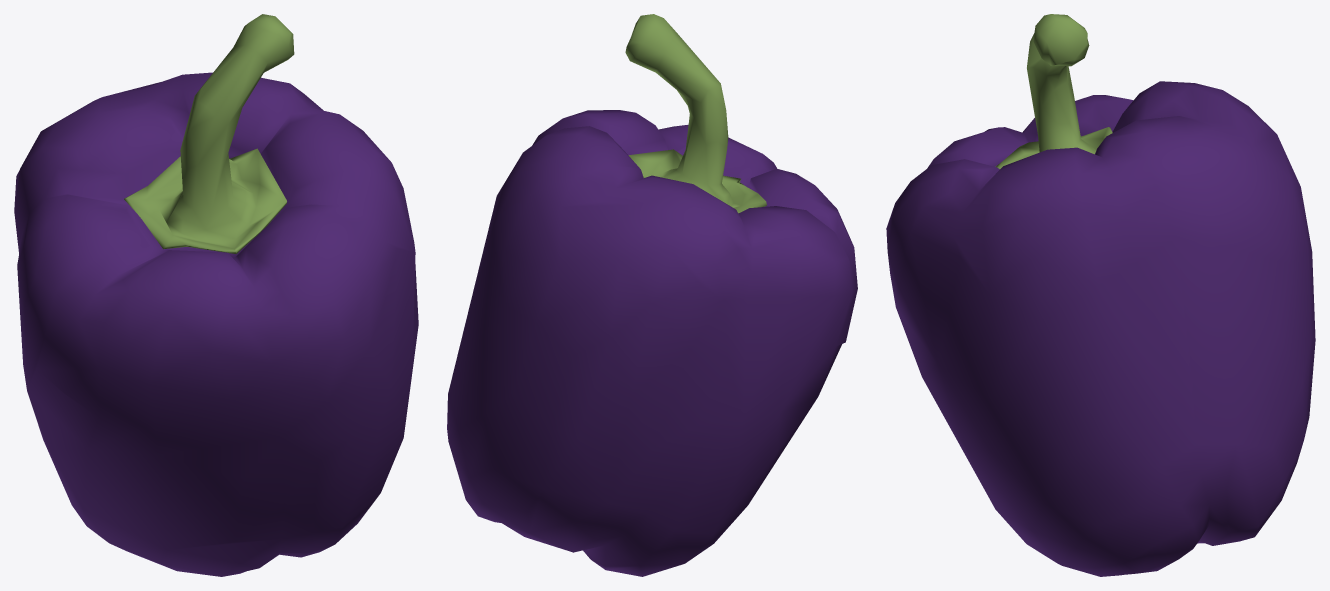
Rendered from Purple.fbx.
3 views of the same model, side by side, from view 1: azimuth 30°, elevation 25°; view 2: azimuth 150°, elevation 25°; view 3: azimuth 270°, elevation 25° (orthographic). The views are drawn at different scales.
Visible parts, largest first — view 1: Purple; view 2: Purple; view 3: Purple.
Part boxes in pixels (x1=…): Purple: x1=14, y1=14, x2=418, y2=576; Purple: x1=447, y1=14, x2=857, y2=576; Purple: x1=886, y1=14, x2=1315, y2=576.
Bounding box in the file's own units: 0.0703 × 0.0999 × 0.0714.
